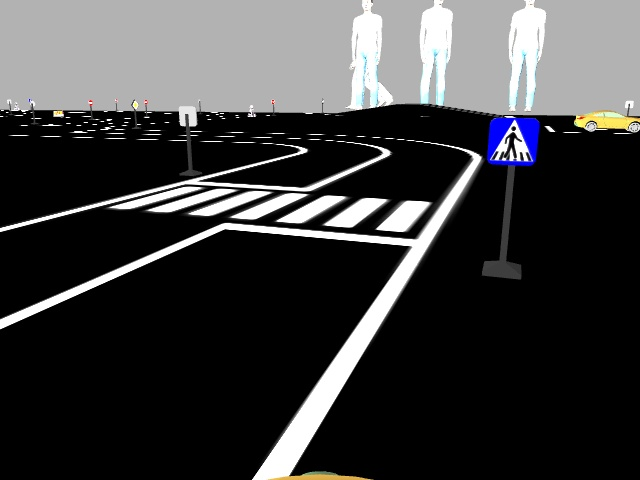Crosswalk: (487, 118, 535, 163)
